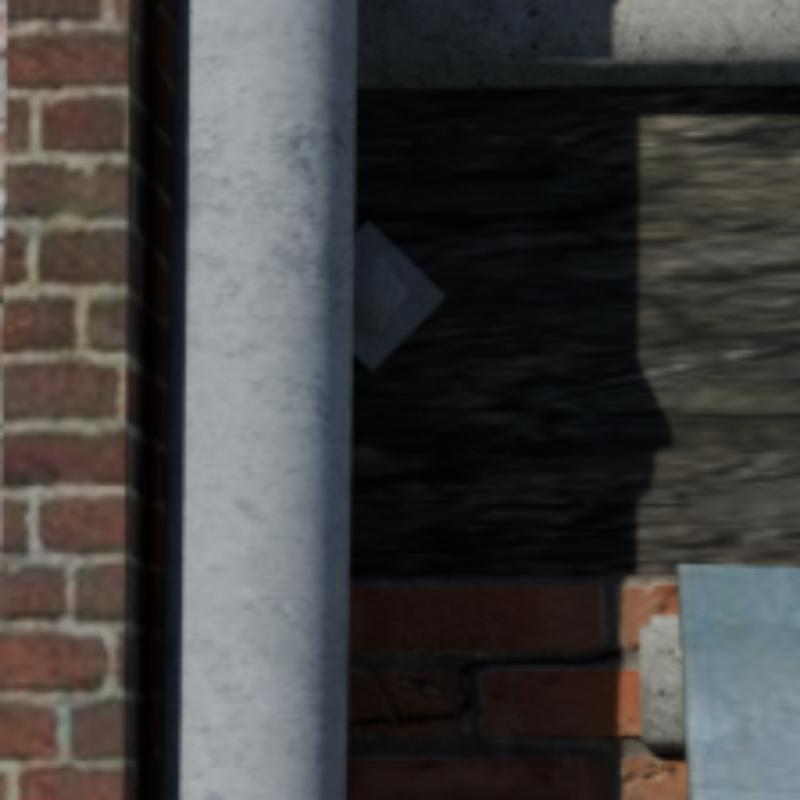crack: (346, 646, 636, 721)
